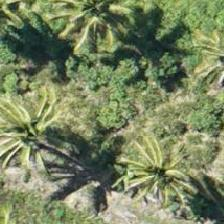coconut_tree: (106, 135, 196, 223), (0, 94, 78, 184), (48, 0, 138, 75)
